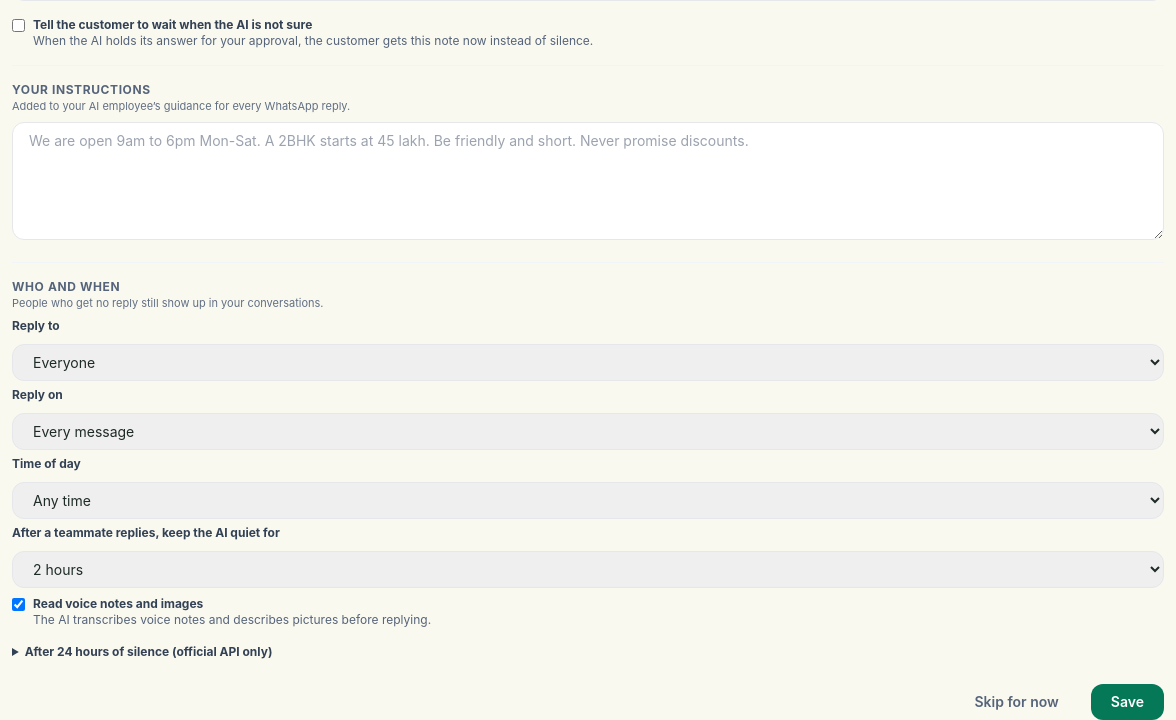
WhatsAppAutoReplyForm › new conversations only is reflected in the summary
The width and height of the screenshot is (1176, 720).
(page scrolled)
Select "Only the first message of a new conversation" in the dropdown labelled "Reply on" at [588, 431], box [12,412,1164,450]
(page scrolled)
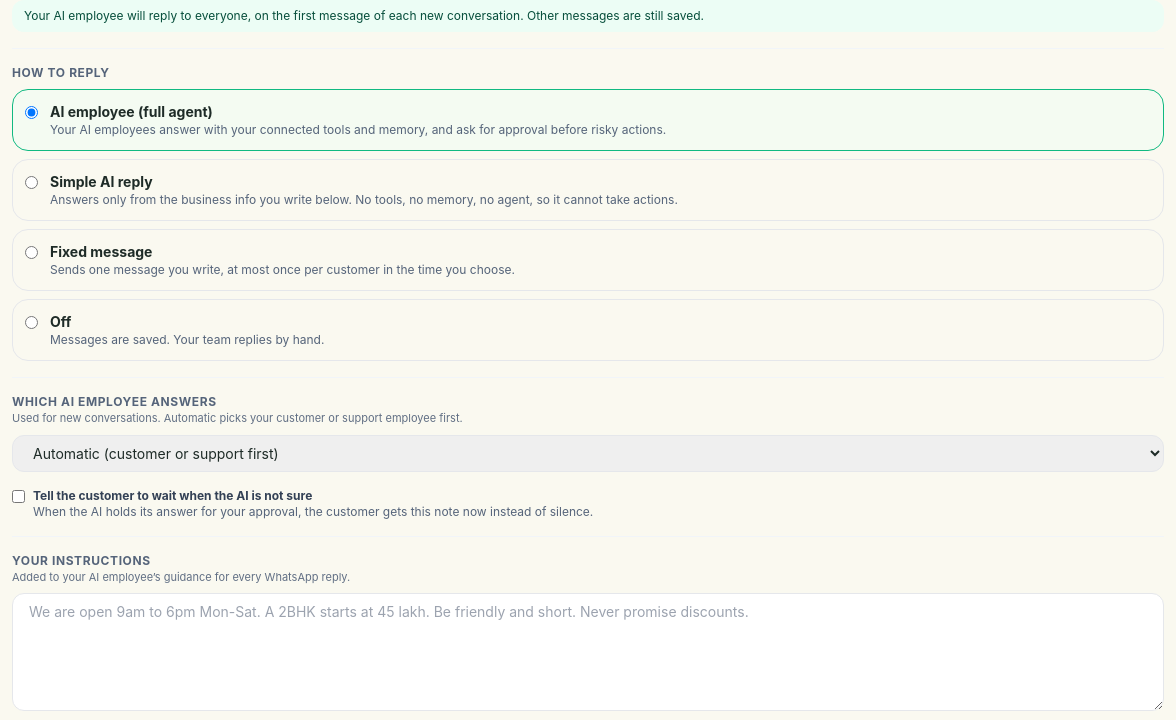
Expected: the message with test id "auto-reply-summary" shows "the first message of each new conversation", [24,8,704,23]
